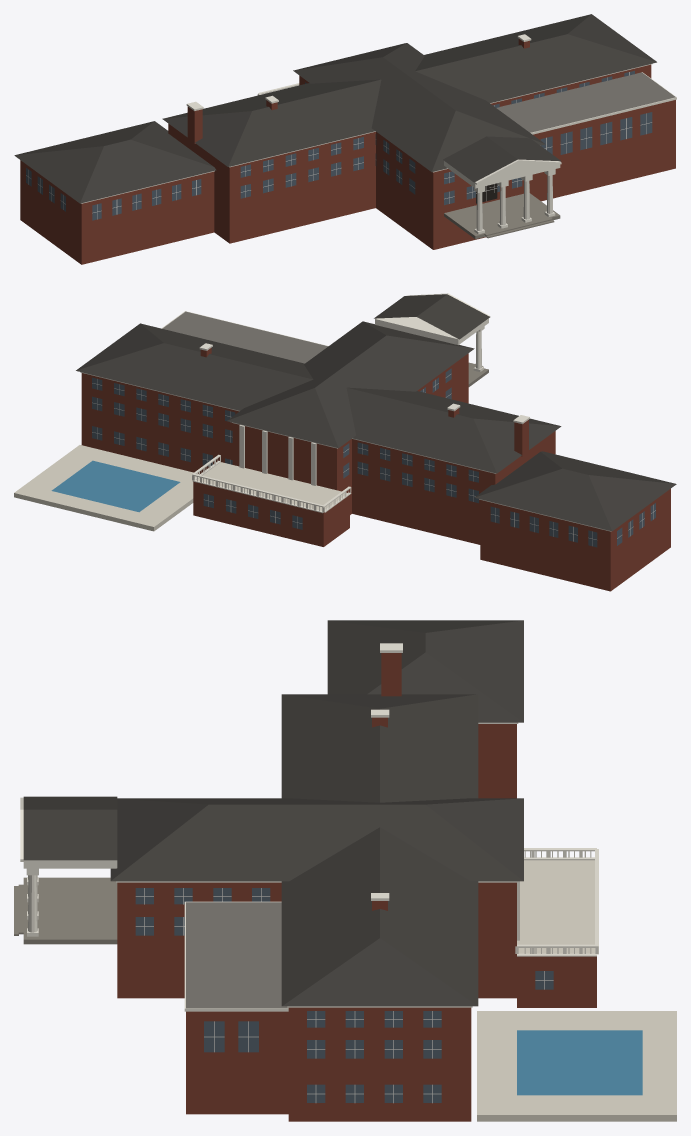
The model's file is country-club-clubhouse-1985.glb.
3 views of the same model, one above another, from view 1: azimuth 30°, elevation 25°; view 2: azimuth 150°, elevation 25°; view 3: azimuth 270°, elevation 25° (orthographic). The views are drawn at different scales.
Visible parts, largest first — view 1: country_club_clubhouse_1985; view 2: country_club_clubhouse_1985; view 3: country_club_clubhouse_1985.
Part boxes in pixels (x1,y1,x2,y2): country_club_clubhouse_1985: (14, 14, 676, 264); country_club_clubhouse_1985: (14, 293, 676, 591); country_club_clubhouse_1985: (14, 620, 676, 1121).
Size of the model in its own units: 84.7 by 16.25 by 58.05.
